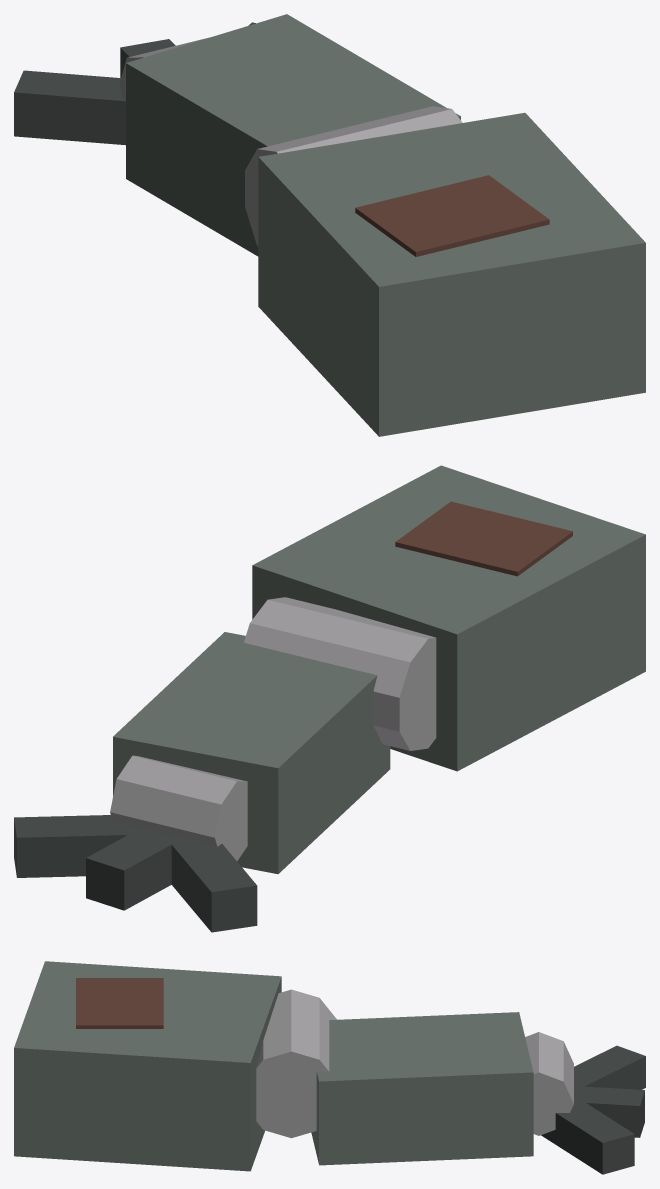
The model's file is warwalker_leg_b6.obj.
3 views of the same model, one above another, from view 1: azimuth 30°, elevation 25°; view 2: azimuth 150°, elevation 25°; view 3: azimuth 270°, elevation 25° (orthographic). The views are drawn at different scales.
Parts seen in each view (by area): view 1: warwalker_leg_b6_0, warwalker_leg_b6_2, warwalker_leg_b6_7, warwalker_leg_b6_4, warwalker_leg_b6_1, warwalker_leg_b6_5; view 2: warwalker_leg_b6_0, warwalker_leg_b6_2, warwalker_leg_b6_1, warwalker_leg_b6_3, warwalker_leg_b6_7, warwalker_leg_b6_4, warwalker_leg_b6_6, warwalker_leg_b6_5; view 3: warwalker_leg_b6_0, warwalker_leg_b6_2, warwalker_leg_b6_1, warwalker_leg_b6_7, warwalker_leg_b6_6, warwalker_leg_b6_3, warwalker_leg_b6_4, warwalker_leg_b6_5.
Boxes of the visible parts, x1,y1,x2,y2 form: warwalker_leg_b6_0: [258, 112, 645, 436]; warwalker_leg_b6_2: [126, 14, 460, 256]; warwalker_leg_b6_7: [355, 175, 549, 256]; warwalker_leg_b6_4: [14, 70, 125, 145]; warwalker_leg_b6_1: [245, 106, 462, 246]; warwalker_leg_b6_5: [120, 39, 175, 77]; warwalker_leg_b6_0: [252, 465, 645, 771]; warwalker_leg_b6_2: [113, 632, 390, 873]; warwalker_leg_b6_1: [244, 597, 436, 750]; warwalker_leg_b6_3: [110, 755, 247, 861]; warwalker_leg_b6_7: [395, 501, 572, 576]; warwalker_leg_b6_4: [163, 834, 257, 932]; warwalker_leg_b6_6: [14, 815, 161, 877]; warwalker_leg_b6_5: [86, 828, 182, 910]; warwalker_leg_b6_0: [14, 961, 281, 1171]; warwalker_leg_b6_2: [311, 1012, 533, 1165]; warwalker_leg_b6_1: [256, 989, 336, 1138]; warwalker_leg_b6_7: [76, 978, 163, 1028]; warwalker_leg_b6_6: [541, 1095, 634, 1174]; warwalker_leg_b6_3: [525, 1032, 573, 1135]; warwalker_leg_b6_4: [574, 1045, 645, 1091]; warwalker_leg_b6_5: [574, 1086, 644, 1137].
Bounding box in the file's own units: 1.6 × 0.775 × 3.96.
